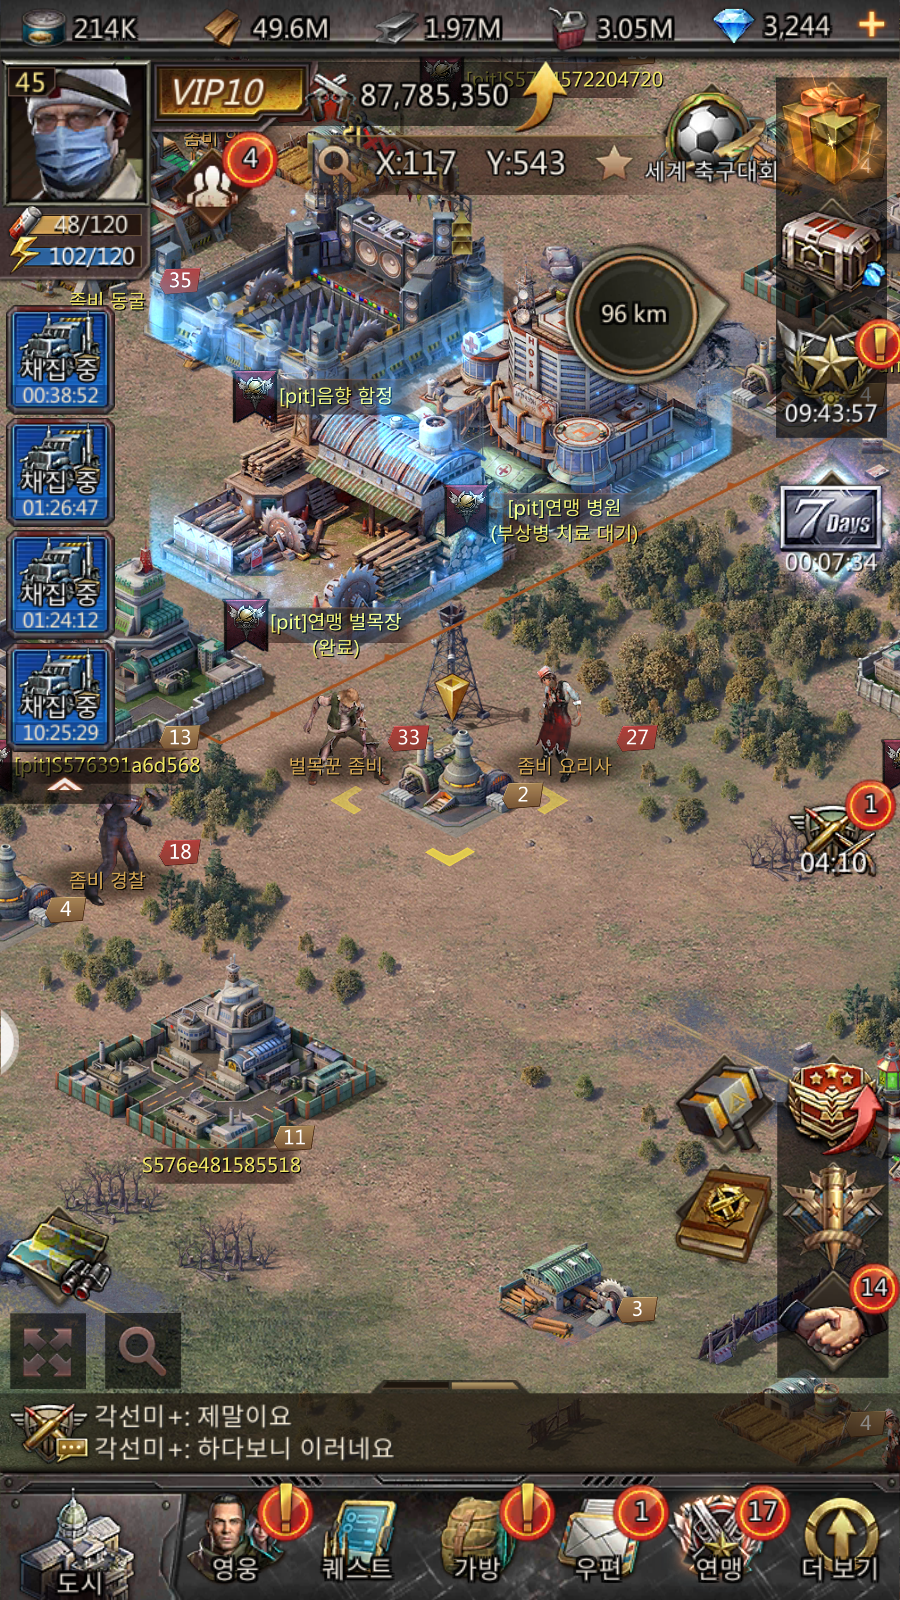city: (9, 1493, 185, 1598)
empty_steel: (320, 662, 578, 884)
open_panel: (98, 1304, 198, 1391)
troops_cnt_4: (162, 122, 291, 249)
